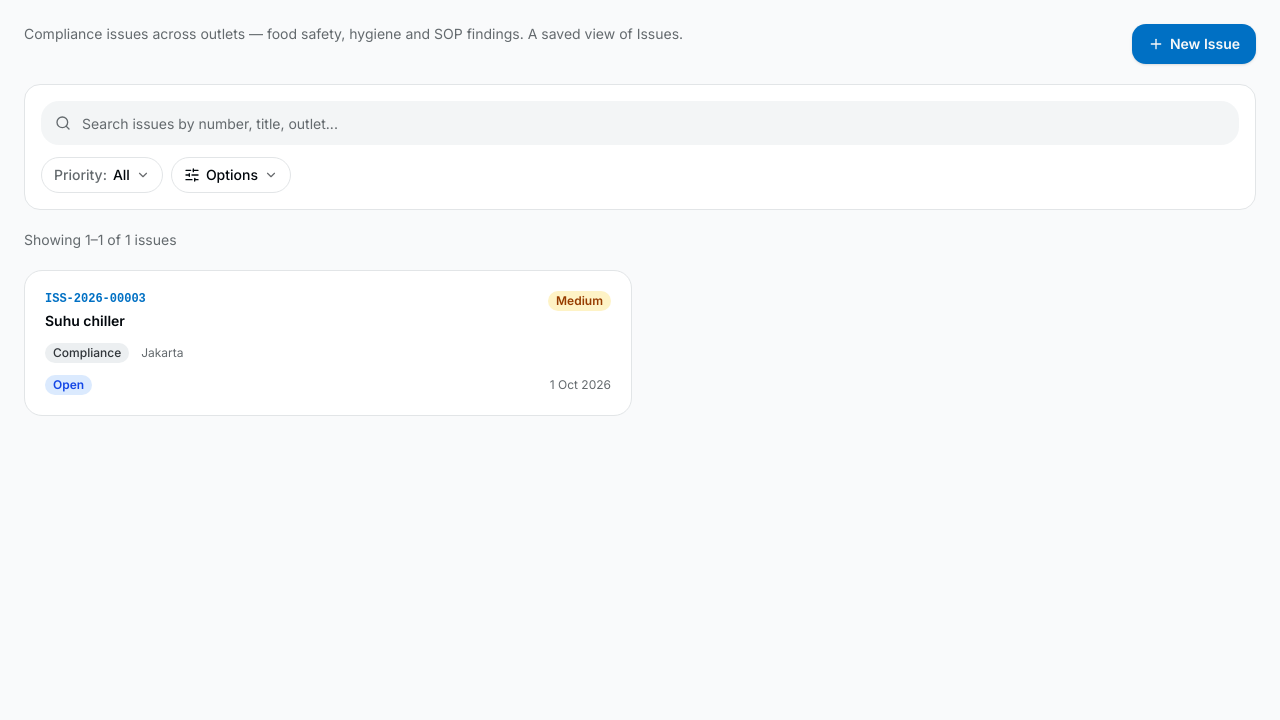
IssuesListPage — URL routing › an embedded list (QA tab) keeps its selection out of the URL
Step 1. Click the heading "Suhu chiller" → coordinates (85, 320), box 45,312 -> 125,329
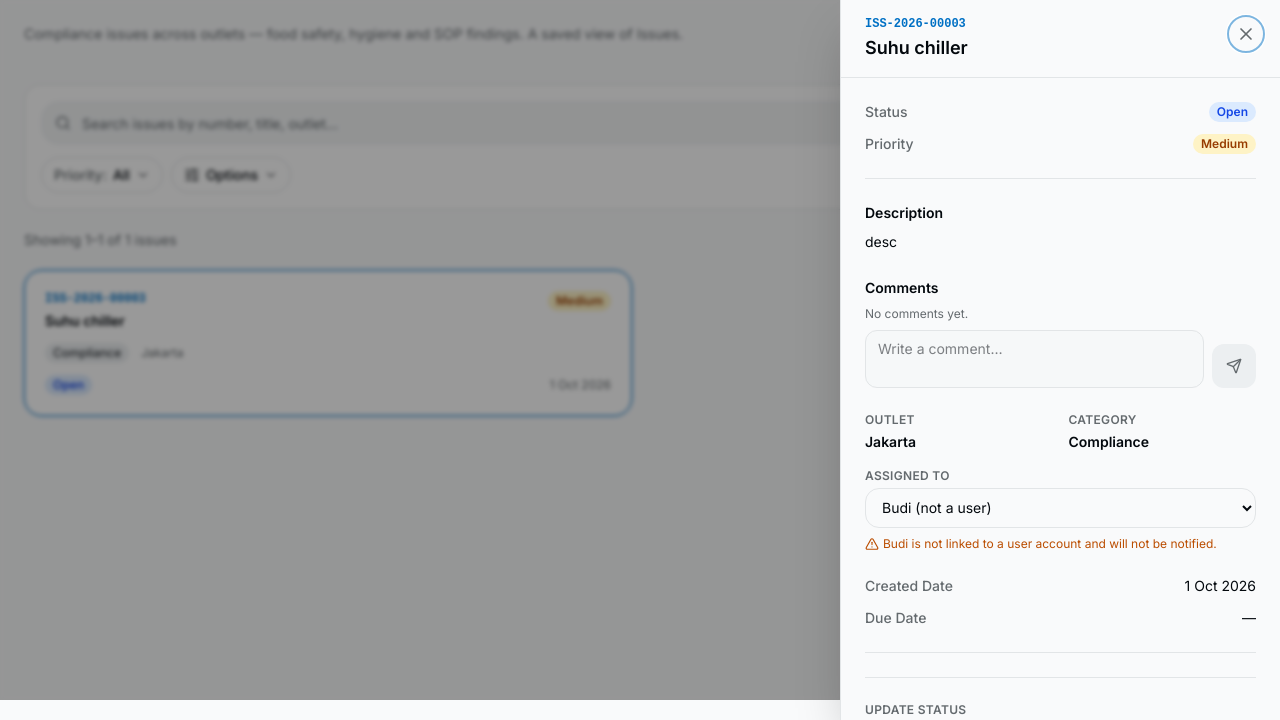
Expected: the dialog "ISS-2026-00003" is shown, 840,0 -> 1279,719
